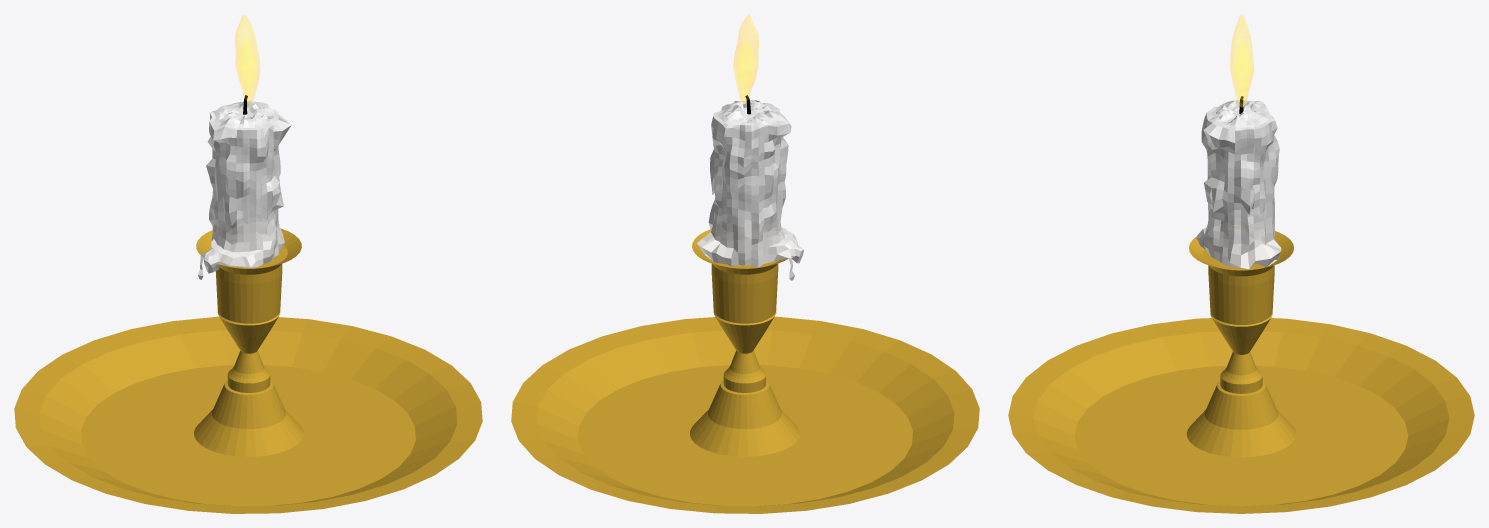
File: candle.glb
The picture shows the model from 3 angles, left to right: view 1: azimuth 30°, elevation 25°; view 2: azimuth 150°, elevation 25°; view 3: azimuth 270°, elevation 25°; orthographic projection.
Visible parts, largest first — view 1: base, candlestick, candle, big flame, small flame; view 2: base, candle, candlestick, big flame, small flame; view 3: base, candlestick, candle, big flame, small flame.
Boxes of the visible parts, x1=… form: base: x1=14, y1=316, x2=482, y2=513; candlestick: x1=194, y1=228, x2=303, y2=456; candle: x1=198, y1=101, x2=291, y2=279; big flame: x1=235, y1=14, x2=260, y2=103; small flame: x1=239, y1=40, x2=255, y2=96; base: x1=511, y1=316, x2=979, y2=513; candle: x1=697, y1=100, x2=803, y2=280; candlestick: x1=690, y1=229, x2=799, y2=456; big flame: x1=733, y1=14, x2=758, y2=103; small flame: x1=737, y1=40, x2=754, y2=97; base: x1=1008, y1=318, x2=1474, y2=513; candlestick: x1=1186, y1=226, x2=1296, y2=457; candle: x1=1196, y1=100, x2=1281, y2=269; big flame: x1=1230, y1=14, x2=1253, y2=107; small flame: x1=1234, y1=41, x2=1250, y2=99.
Size of the model in its own units: 0.2797 by 0.2777 by 0.2797.
